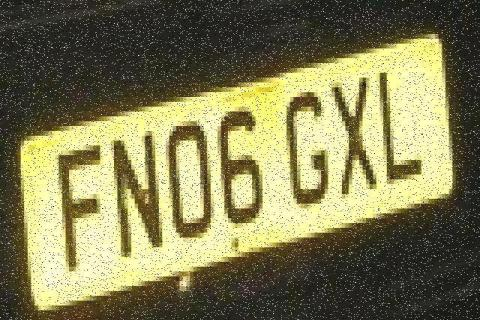LicensePlate: (16, 25, 456, 305)
